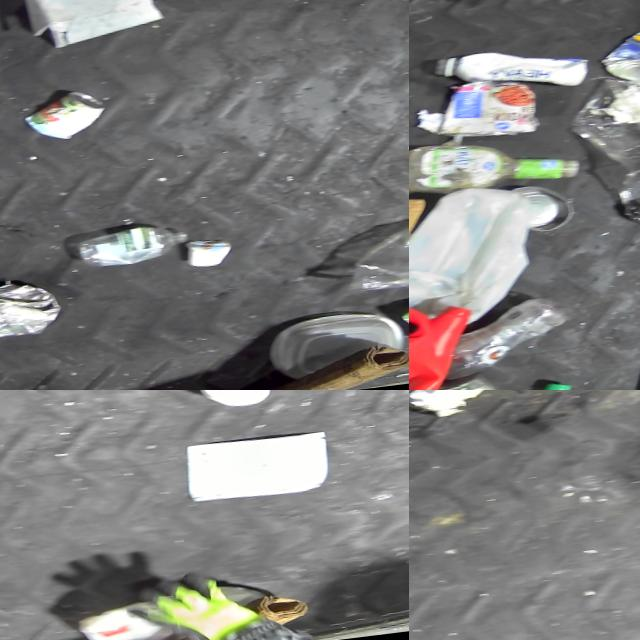can: (426, 73, 545, 144), (16, 84, 112, 146), (0, 275, 60, 344), (504, 178, 574, 236), (592, 20, 640, 94), (409, 367, 516, 390), (383, 273, 409, 357)
milk_jug: (409, 179, 544, 336)
plastic_bottle: (427, 290, 577, 382), (63, 220, 188, 270)
